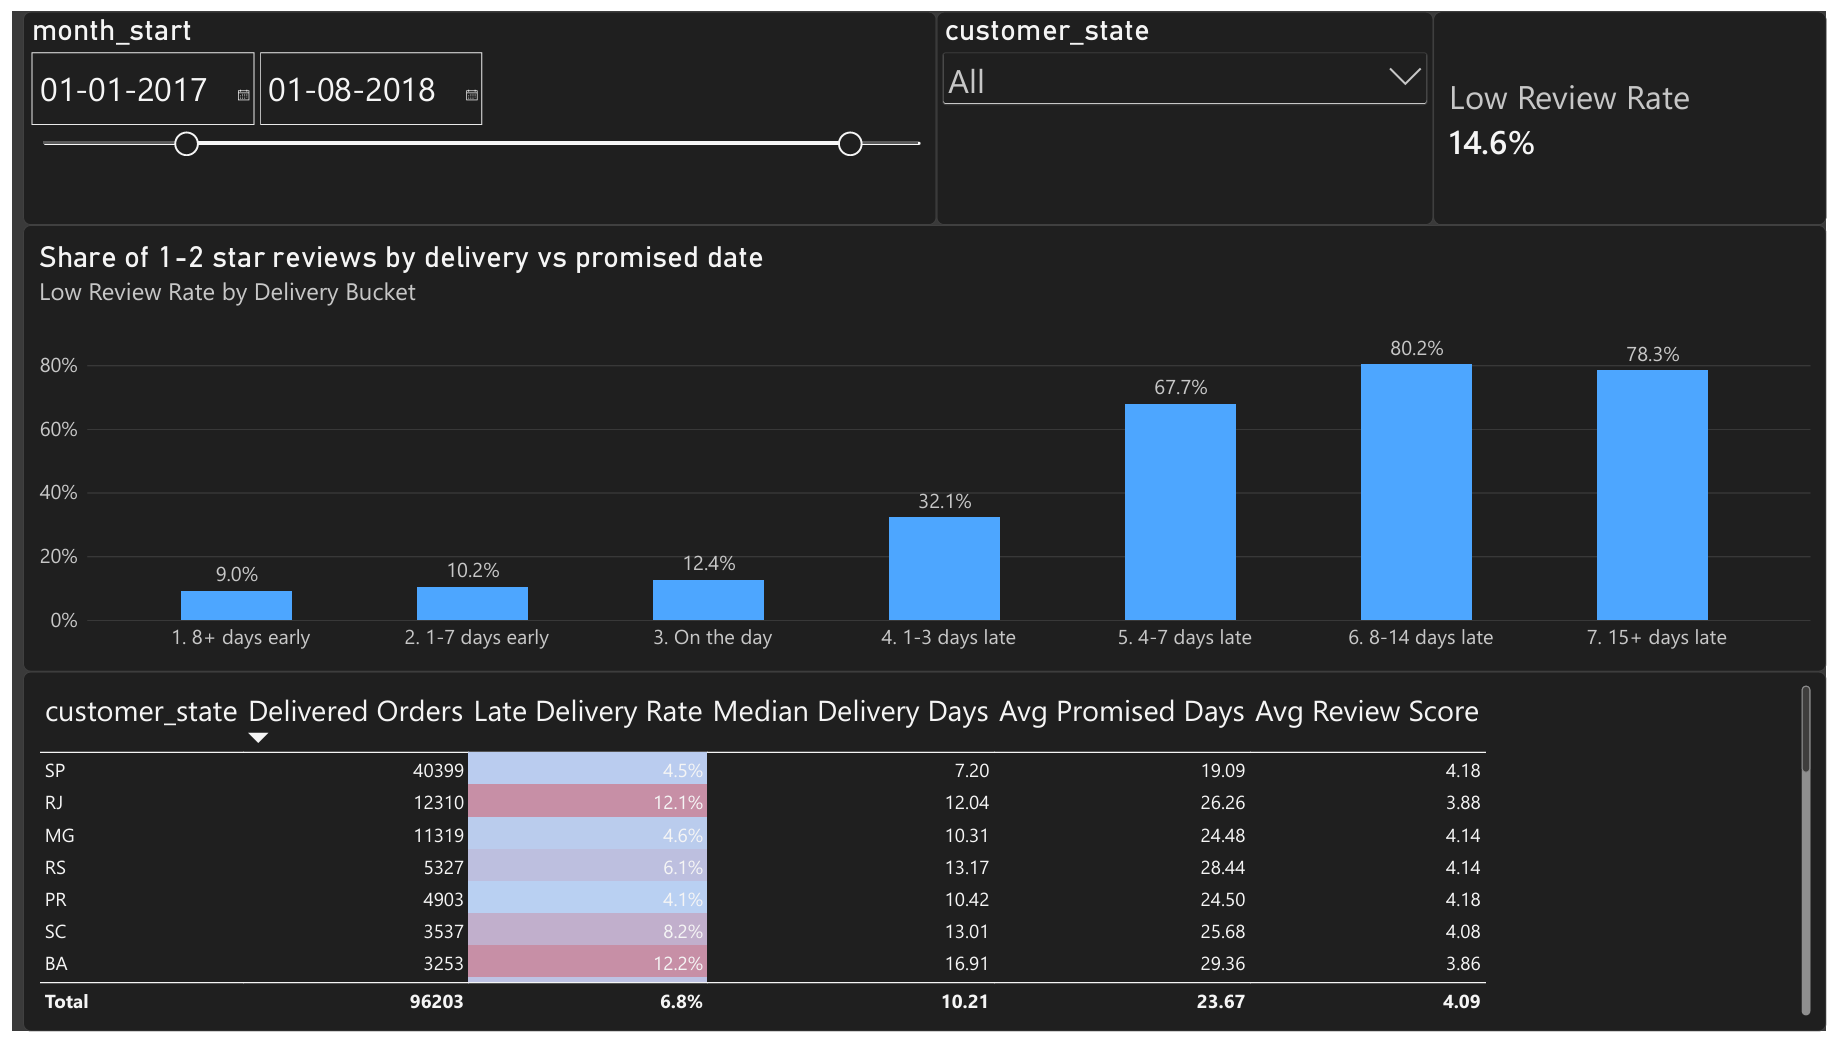

The dashboard page shown, as its layout file describes it:
{"tool":"powerbi","page":{"name":"Delivery & Satisfaction","canvas":[1920,1080],"ordinal":1},"visuals":[{"type":"slicer","fields":{"Values":["dim_date.month_start"]},"box":[11,0,966.6,225.6],"z":0},{"type":"slicer","fields":{"Values":["fct_orders.customer_state"]},"box":[977.7,0,526.4,225.6],"z":1000},{"type":"cardVisual","fields":{"Data":["_Measures.Low Review Rate"]},"box":[1504.1,0,416.4,225.6],"z":2000},{"type":"clusteredColumnChart","title":"Share of 1-2 star reviews by delivery vs promised date","fields":{"Category":["fct_orders.Delivery Bucket"],"Y":["_Measures.Low Review Rate"]},"box":[11,225.6,1909.5,473.2],"z":3000},{"type":"tableEx","fields":{"Values":["fct_orders.customer_state","_Measures.Delivered Orders","_Measures.Late Delivery Rate","_Measures.Median Delivery Days","Avg(fct_orders.promised_days)","_Measures.Avg Review Score"]},"box":[10.9,698.5,1909.2,381.8],"z":4000}]}

Visuals, with their boxes in screenshot pixels (x1, y1, x2, y2), scaled from the page's 1920x1080 canvas onto the 1837x1037 screenshot:
slicer - dim_date.month_start: (x1=11, y1=0, x2=935, y2=217)
slicer - fct_orders.customer_state: (x1=935, y1=0, x2=1439, y2=217)
cardVisual - _Measures.Low Review Rate: (x1=1439, y1=0, x2=1836, y2=217)
"Share of 1-2 star reviews by delivery vs promised date" clusteredColumnChart: (x1=11, y1=217, x2=1836, y2=671)
tableEx - fct_orders.customer_state x _Measures.Delivered Orders: (x1=10, y1=671, x2=1836, y2=1036)
